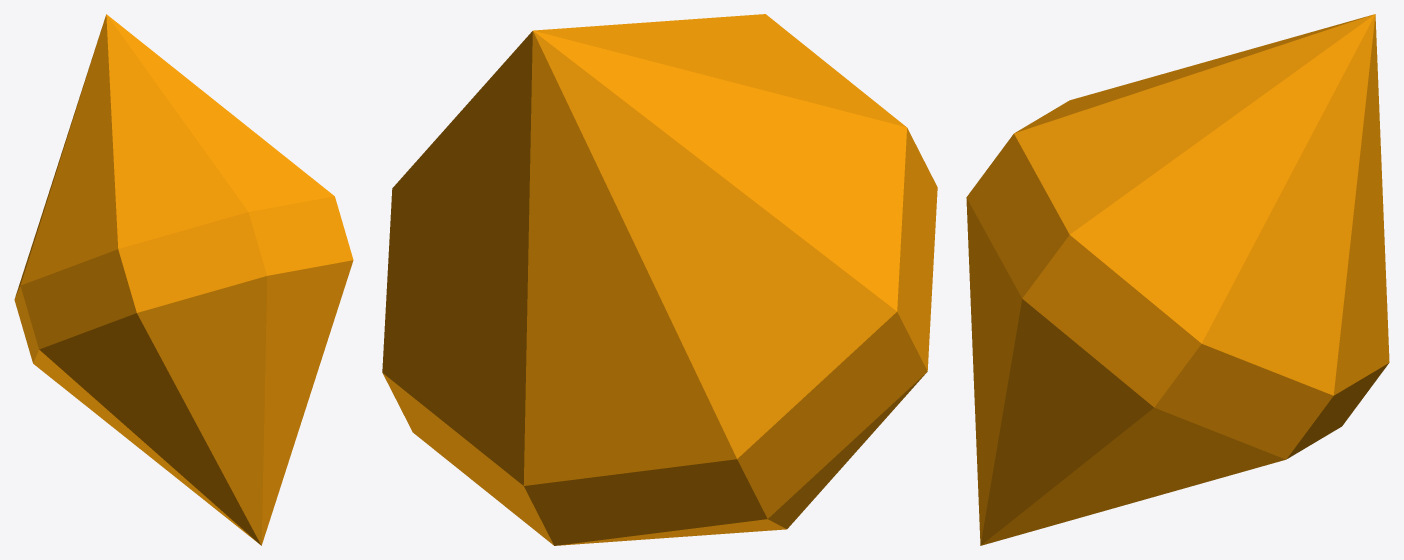
File: CapsuleCAM.fbx
The picture shows the model from 3 angles, left to right: view 1: azimuth 30°, elevation 25°; view 2: azimuth 150°, elevation 25°; view 3: azimuth 270°, elevation 25°; orthographic projection. The views are drawn at different scales.
Visible parts, largest first — view 1: CapsuleCAM; view 2: CapsuleCAM; view 3: CapsuleCAM.
Boxes of the visible parts, <box> form: CapsuleCAM: <box>14,14,353,545</box>; CapsuleCAM: <box>382,14,937,545</box>; CapsuleCAM: <box>966,14,1389,545</box>.
Size of the model in its own units: 107 by 138 by 99.61.
